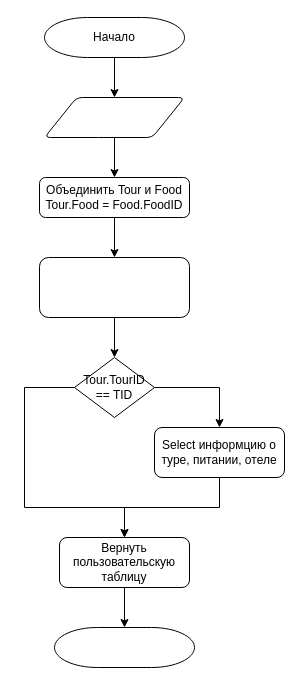
The diagram is 302 pixels wide and 685 high, and some of its shapes have lost their labels. Here are the shapes that lost their labels. From the top down, the centre of each, then its label:
At [114,117]: "TourID".
At [114,287]: "Объединить результат и Hotel Tour.Hotel = Hotel.HotelID".
At [124,647]: "Конец".
